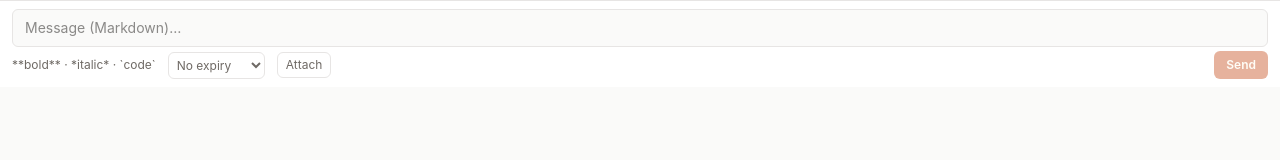
Test: ChatInput slash submit (issue #99 Phase 3) › an unknown verb shows the exact inline hint, sends nothing, keeps the text
The image size is (1280, 160).
Type "/foo bar" into the dropdown named "Write a message" at (640, 28), box x1=12 y1=9 x2=1268 y2=47
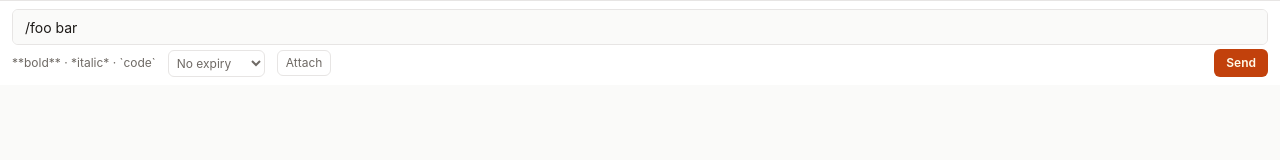
Press Enter in the dropdown named "Write a message", box x1=12 y1=9 x2=1268 y2=45
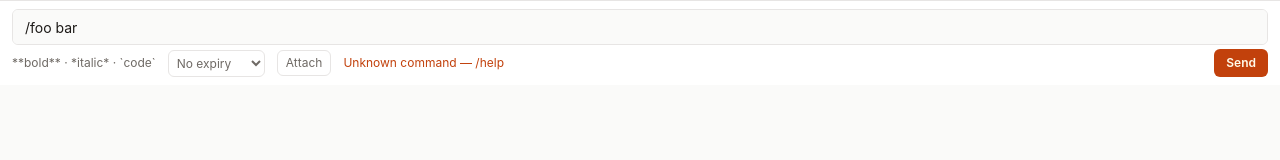
Result: the message reads "Unknown command — /help" at x1=343 y1=55 x2=504 y2=70
